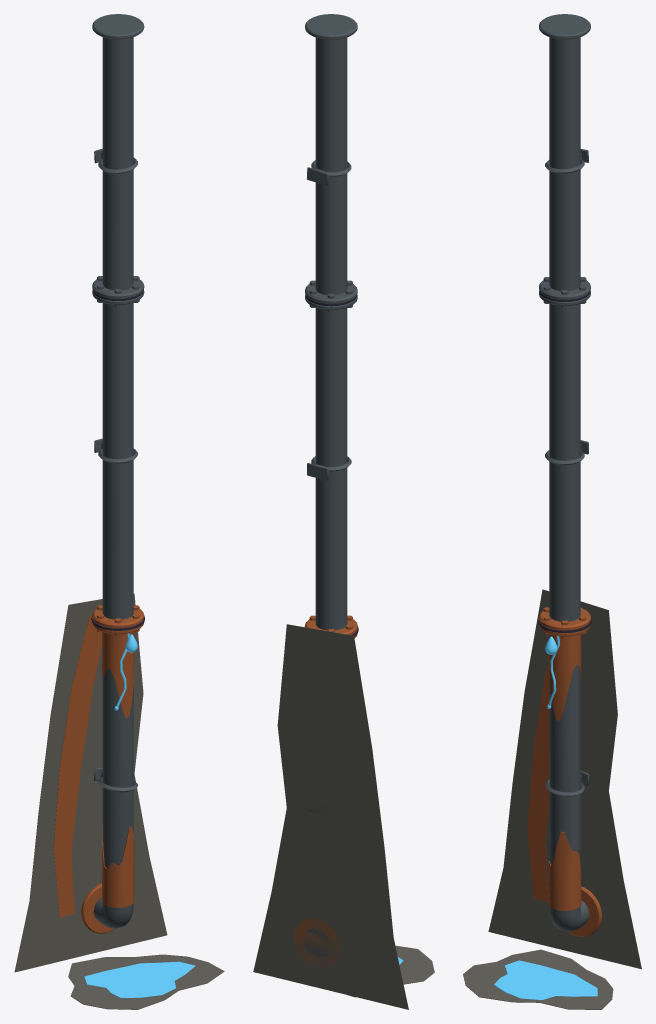
The model's file is leaky_pipe.glb.
3 views of the same model, side by side, from view 1: azimuth 30°, elevation 25°; view 2: azimuth 150°, elevation 25°; view 3: azimuth 330°, elevation 25° (orthographic).
Visible parts, largest first — view 1: Pipe, Puddle; view 2: Pipe, Puddle; view 3: Pipe, Puddle.
Part boxes in pixels (x1,y1,x2,y2): Pipe: (14,14,167,972); Puddle: (68,954,224,1009); Pipe: (253,14,408,1009); Puddle: (350,945,434,997); Pipe: (488,14,641,969); Puddle: (463,949,613,1009).
Bounding box in the file's own units: 1.08 × 5.99 × 0.7655.
